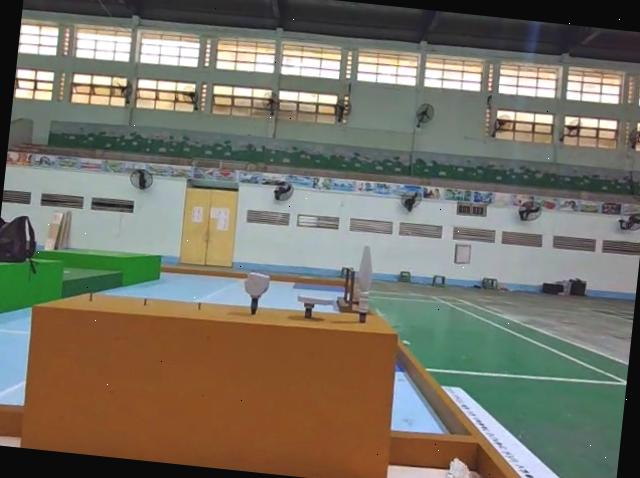Fist: (240, 270, 271, 316)
Hand: (289, 291, 335, 324)
Sph: (350, 242, 378, 325)
